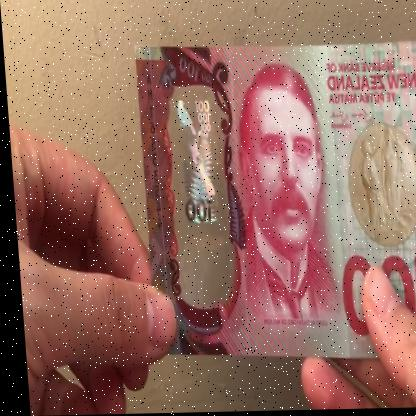100F: (169, 95, 224, 288)
